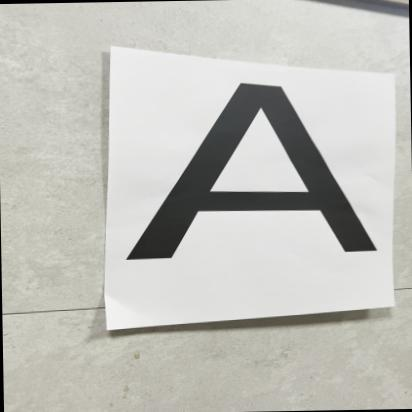seat: (114, 75, 396, 298)
